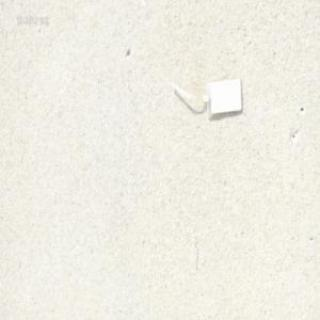LuggageTagtrack_idkeyframe: (167, 73, 244, 119)
